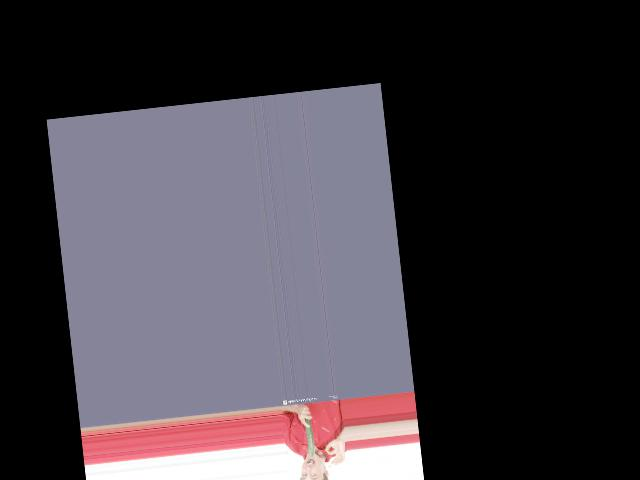cucumber: (305, 418, 315, 457)
